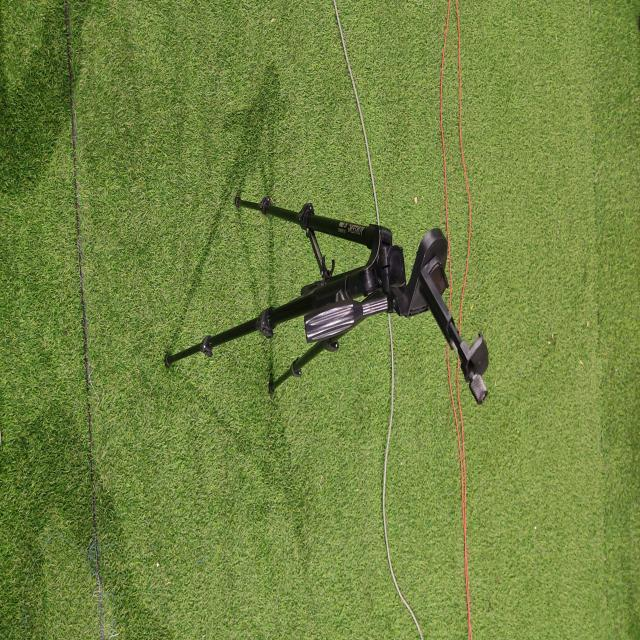Camer Stand: (163, 191, 490, 406)
